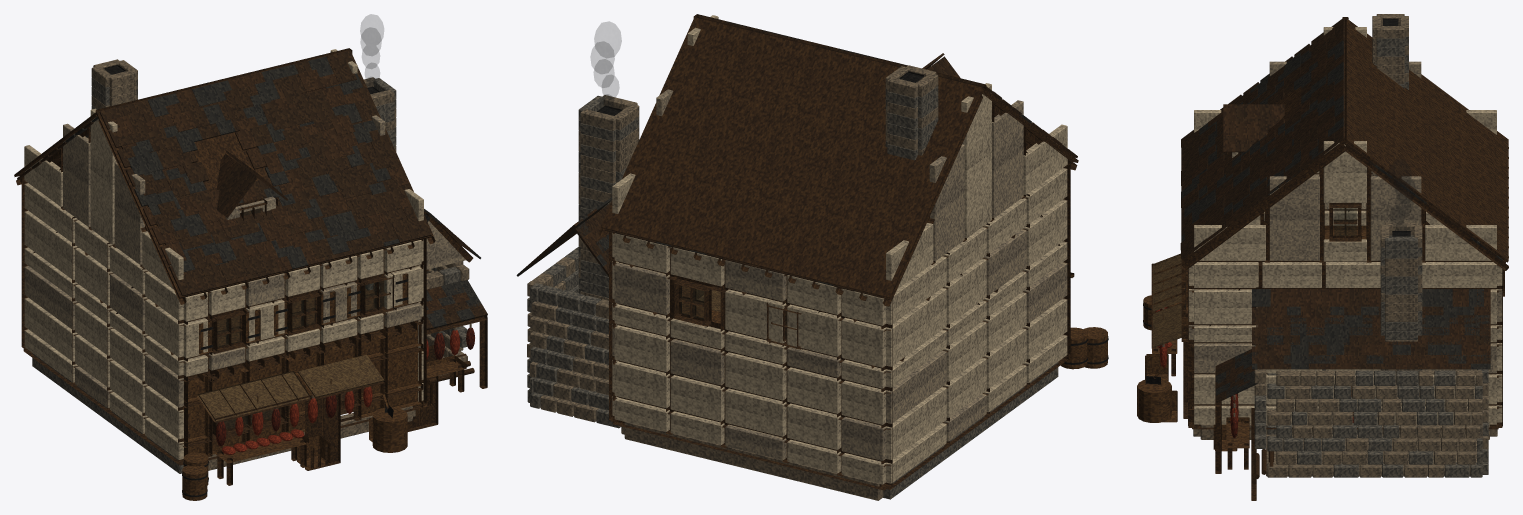
File: medieval_butcher_house_3d_runtime.glb
The picture shows the model from 3 angles, left to right: view 1: azimuth 30°, elevation 25°; view 2: azimuth 150°, elevation 25°; view 3: azimuth 270°, elevation 25°; orthographic projection. The views are drawn at different scales.
Parts seen in each view (by area): view 1: MAIN_ROOF_DECK_-1, MARKET_AWNING_LEFT_CLOTH, GABLE_LEFT_INFILL_2, GABLE_LEFT_INFILL_3, MARKET_AWNING_RIGHT_CLOTH, GABLE_LEFT_INFILL_1, LEFT_INFILL_3_4, LEFT_INFILL_3_2, LEFT_INFILL_3_1, PLINTH_LEFT, CHOPPING_STUMP, LEFT_INFILL_0_4 (+65 smaller); view 2: MAIN_ROOF_DECK_1, PLINTH_REAR, GABLE_LEFT_INFILL_2, GABLE_LEFT_INFILL_1, GABLE_LEFT_INFILL_3, LEFT_INFILL_3_4, REAR_INFILL_2_4, REAR_INFILL_4_4, LEFT_INFILL_3_1, LEFT_INFILL_3_2, REAR_INFILL_1_4, REAR_INFILL_2_1 (+58 smaller); view 3: MAIN_ROOF_DECK_1, GABLE_RIGHT_INFILL_1, GABLE_RIGHT_INFILL_3, GABLE_RIGHT_INFILL_HIGH_2, RIGHT_INFILL_0_4, GABLE_RIGHT_INFILL_4, GABLE_RIGHT_INFILL_0, RIGHT_INFILL_3_5, RIGHT_INFILL_0_5, RIGHT_INFILL_1_5, RIGHT_INFILL_2_5, MAIN_ROOF_DECK_-1 (+23 smaller).
Boxes of the visible parts, x1=… form: MAIN_ROOF_DECK_-1: x1=96, y1=52, x2=433, y2=298; MARKET_AWNING_LEFT_CLOTH: x1=197, y1=371, x2=310, y2=421; GABLE_LEFT_INFILL_2: x1=90, y1=108, x2=117, y2=244; GABLE_LEFT_INFILL_3: x1=63, y1=123, x2=90, y2=226; MARKET_AWNING_RIGHT_CLOTH: x1=298, y1=354, x2=384, y2=397; GABLE_LEFT_INFILL_1: x1=114, y1=162, x2=145, y2=264; LEFT_INFILL_3_4: x1=24, y1=210, x2=77, y2=280; LEFT_INFILL_3_2: x1=24, y1=266, x2=77, y2=330; LEFT_INFILL_3_1: x1=24, y1=297, x2=77, y2=361; PLINTH_LEFT: x1=32, y1=353, x2=183, y2=473; CHOPPING_STUMP: x1=372, y1=407, x2=407, y2=452; LEFT_INFILL_0_4: x1=145, y1=299, x2=183, y2=357; MAIN_ROOF_DECK_1: x1=600, y1=17, x2=984, y2=298; PLINTH_REAR: x1=624, y1=422, x2=883, y2=500; GABLE_LEFT_INFILL_2: x1=961, y1=83, x2=991, y2=237; GABLE_LEFT_INFILL_1: x1=992, y1=100, x2=1023, y2=217; GABLE_LEFT_INFILL_3: x1=929, y1=144, x2=964, y2=261; LEFT_INFILL_3_4: x1=886, y1=287, x2=946, y2=366; REAR_INFILL_2_4: x1=725, y1=289, x2=786, y2=343; REAR_INFILL_4_4: x1=614, y1=262, x2=669, y2=314; LEFT_INFILL_3_1: x1=886, y1=386, x2=946, y2=459; LEFT_INFILL_3_2: x1=886, y1=350, x2=946, y2=423; REAR_INFILL_1_4: x1=787, y1=304, x2=841, y2=356; REAR_INFILL_2_1: x1=725, y1=388, x2=786, y2=436; MAIN_ROOF_DECK_1: x1=1345, y1=18, x2=1508, y2=262; GABLE_RIGHT_INFILL_1: x1=1269, y1=176, x2=1319, y2=260; GABLE_RIGHT_INFILL_3: x1=1370, y1=176, x2=1421, y2=260; GABLE_RIGHT_INFILL_HIGH_2: x1=1323, y1=141, x2=1366, y2=202; RIGHT_INFILL_0_4: x1=1194, y1=289, x2=1251, y2=324; GABLE_RIGHT_INFILL_4: x1=1425, y1=225, x2=1496, y2=260; GABLE_RIGHT_INFILL_0: x1=1194, y1=225, x2=1265, y2=260; RIGHT_INFILL_3_5: x1=1422, y1=262, x2=1496, y2=287; RIGHT_INFILL_0_5: x1=1194, y1=262, x2=1258, y2=287; RIGHT_INFILL_1_5: x1=1262, y1=262, x2=1321, y2=287; RIGHT_INFILL_2_5: x1=1325, y1=262, x2=1380, y2=287; MAIN_ROOF_DECK_-1: x1=1183, y1=20, x2=1346, y2=263.
Bounding box in the file's own units: 10.87 × 10.95 × 10.28.
Materials: 16 (16 with a texture image).
